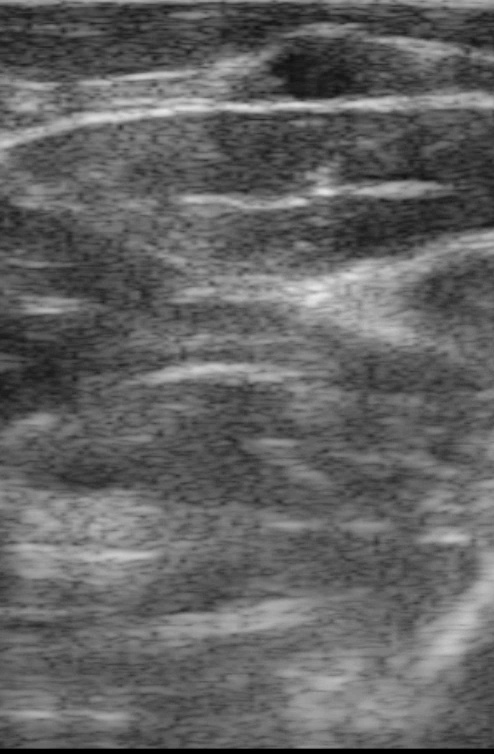veins_detect: (263, 31, 398, 108)
veins_seg: (268, 34, 380, 101)
